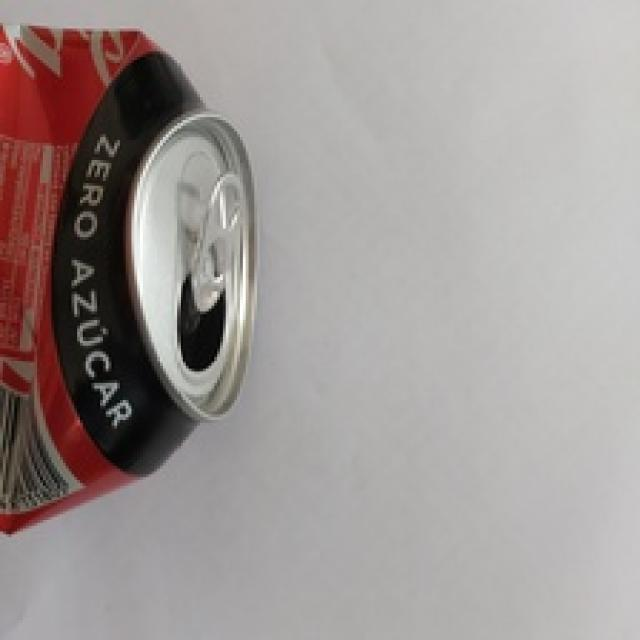recyclable: (0, 22, 257, 534)
